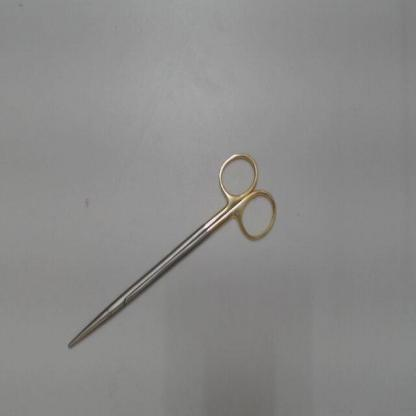7 Metzenbaum Scissors: (66, 147, 282, 353)
